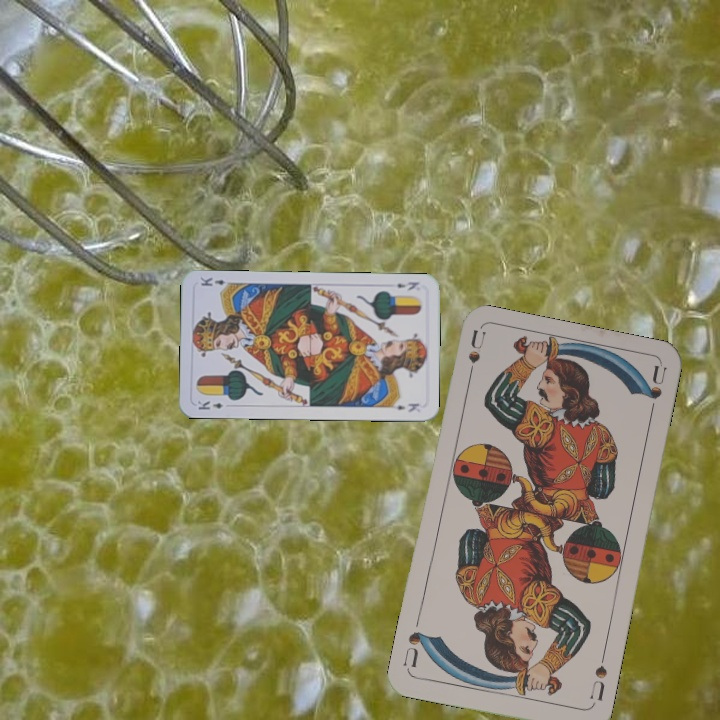EK: (194, 397, 226, 412), (392, 278, 421, 293)
SU: (463, 328, 488, 387), (585, 649, 610, 704)
